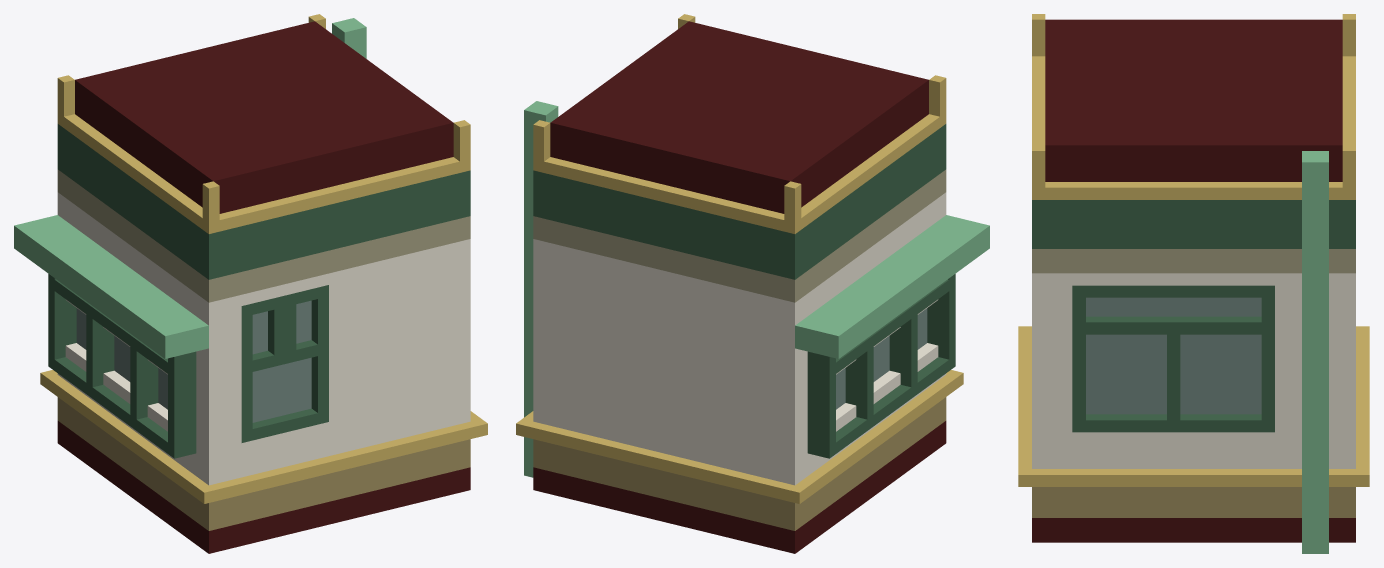
Rendered from tile_2_alone_nr.obj.
3 renders of one model, left to right at view 1: azimuth 30°, elevation 25°; view 2: azimuth 150°, elevation 25°; view 3: azimuth 270°, elevation 25°, orthographic. The views are drawn at different scales.
Bounding box in the file's own units: 3 × 3.2 × 2.6.
